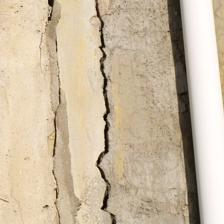Crack: (0, 0, 145, 112), (7, 0, 119, 90)
